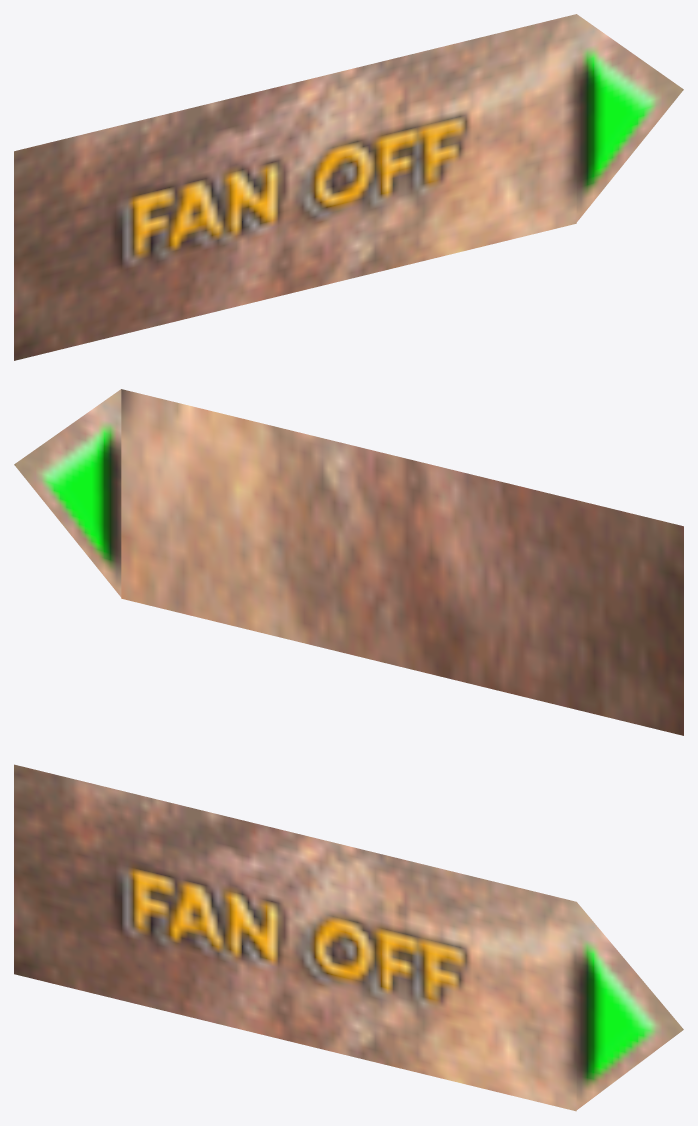
File: SIGN_FAN01.glb
The picture shows the model from 3 angles, top to bottom: view 1: azimuth 30°, elevation 25°; view 2: azimuth 150°, elevation 25°; view 3: azimuth 330°, elevation 25°; orthographic projection.
Parts seen in each view (by area): view 1: SIGN_FAN01; view 2: SIGN_FAN01; view 3: SIGN_FAN01.
Boxes of the visible parts, left/top/right/bottom form: SIGN_FAN01: left=14, top=14, right=683, bottom=360; SIGN_FAN01: left=14, top=389, right=683, bottom=735; SIGN_FAN01: left=14, top=764, right=683, bottom=1111.
Bounding box in the file's own units: 341 × 102 × 0.
Materials: 1 (1 with a texture image).
